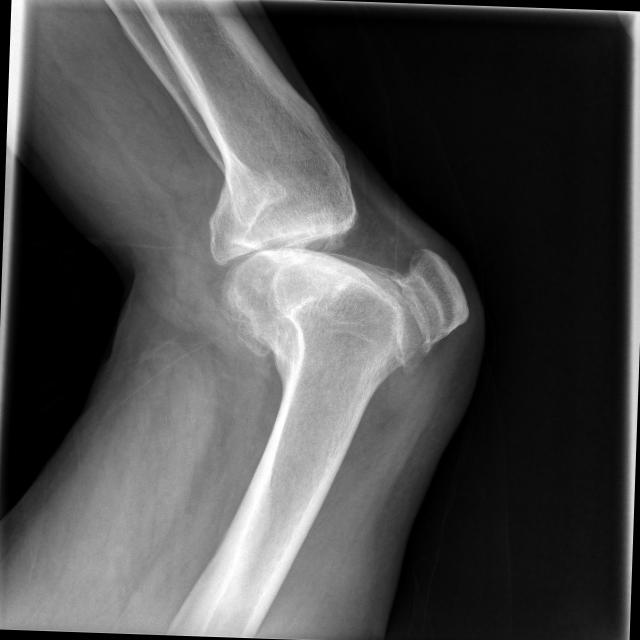Knee: (200, 193, 472, 382)
